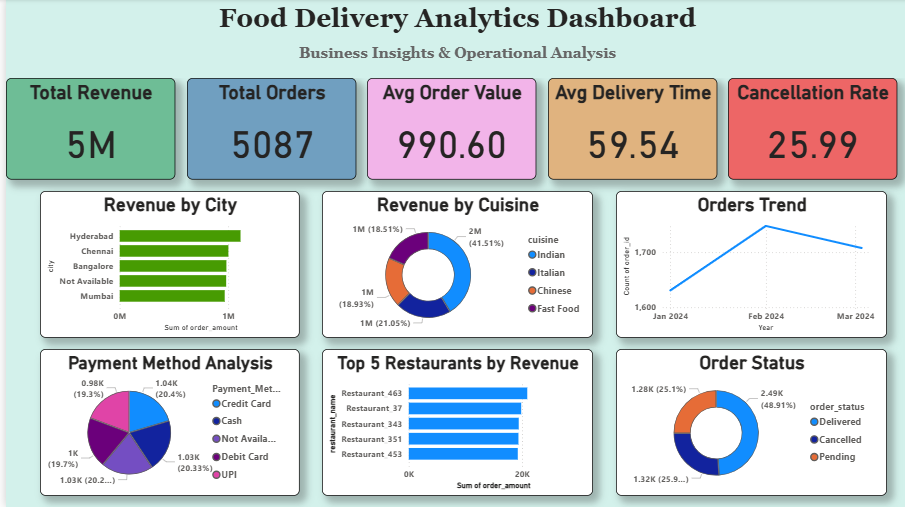

The dashboard page shown, as its layout file describes it:
{"tool":"powerbi","page":{"name":"Executive Overview","canvas":[1280,720],"ordinal":0},"visuals":[{"type":"card","title":"Total Revenue","fields":{"Values":["Sum(public food_delivery_master.order_amount)"]},"box":[0,112,240,144],"z":0},{"type":"card","title":"Total Orders","fields":{"Values":["CountNonNull(public food_delivery_master.order_id)"]},"box":[256,112,240,144],"z":1000},{"type":"card","title":"Avg Order Value","fields":{"Values":["Avg(public food_delivery_master.order_amount)"]},"box":[512,112,240,144],"z":2000},{"type":"card","title":"Avg Delivery Time","fields":{"Values":["Avg(public food_delivery_master.delivery_time)"]},"box":[768,112,240,144],"z":3000},{"type":"card","title":"Cancellation Rate","fields":{"Values":["food_delivery_master.Cancellation Rate"]},"box":[1024,112,240,144],"z":4000},{"type":"textbox","box":[0,0,1280,112],"z":5000},{"type":"clusteredBarChart","title":"Revenue by City","fields":{"Category":["food_delivery_master.city"],"Y":["Sum(food_delivery_master.order_amount)"]},"box":[48,272,368,208],"z":6000},{"type":"donutChart","title":"Revenue by Cuisine ","fields":{"Category":["food_delivery_master.cuisine"],"Y":["Sum(food_delivery_master.order_amount)"]},"box":[448,272,384,208],"z":7000},{"type":"lineChart","title":"Orders Trend","fields":{"Y":["CountNonNull(food_delivery_master.order_id)"],"Category":["food_delivery_master.order_date.Variation.Date Hierarchy.Year","food_delivery_master.order_date.Variation.Date Hierarchy.Quarter","food_delivery_master.order_date.Variation.Date Hierarchy.Month","food_delivery_master.order_date.Variation.Date Hierarchy.Day"]},"box":[864,272,384,208],"z":8000},{"type":"pieChart","title":"Payment Method Analysis","fields":{"Category":["food_delivery_master.payment_method"],"Y":["CountNonNull(food_delivery_master.order_id)"]},"box":[48,496,368,208],"z":9000},{"type":"clusteredBarChart","title":"Top 5 Restaurants by Revenue","fields":{"Category":["food_delivery_master.restaurant_name"],"Y":["Sum(food_delivery_master.order_amount)"]},"box":[448,496,384,208],"z":10000},{"type":"donutChart","title":"Order Status","fields":{"Category":["food_delivery_master.order_status"],"Y":["CountNonNull(food_delivery_master.order_id)"]},"box":[864,496,384,208],"z":11000}]}

Visuals, with their boxes in screenshot pixels (x1, y1, x2, y2), scaled from the page's 1280x720 canvas onto the 905x507 screenshot:
"Total Revenue" card: box=[0, 79, 170, 180]
"Total Orders" card: box=[181, 79, 351, 180]
"Avg Order Value" card: box=[362, 79, 532, 180]
"Avg Delivery Time" card: box=[543, 79, 713, 180]
"Cancellation Rate" card: box=[724, 79, 894, 180]
textbox: box=[0, 0, 904, 79]
"Revenue by City" clusteredBarChart: box=[34, 192, 294, 338]
"Revenue by Cuisine " donutChart: box=[317, 192, 588, 338]
"Orders Trend" lineChart: box=[611, 192, 882, 338]
"Payment Method Analysis" pieChart: box=[34, 349, 294, 496]
"Top 5 Restaurants by Revenue" clusteredBarChart: box=[317, 349, 588, 496]
"Order Status" donutChart: box=[611, 349, 882, 496]
